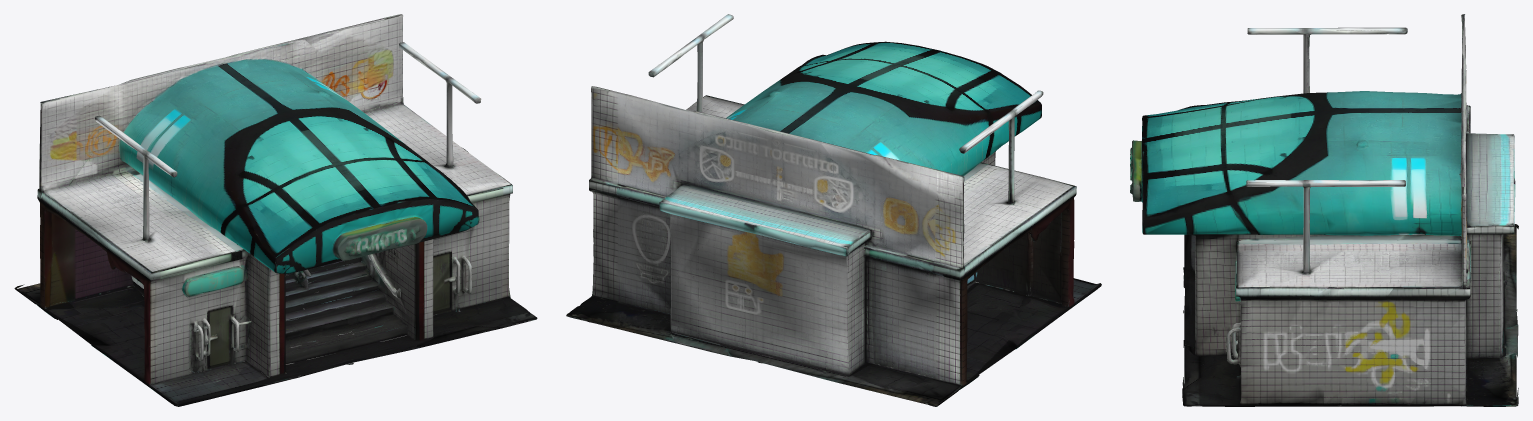
File: ximen_mrt_exit_01.glb
3 renders of one model, left to right at view 1: azimuth 30°, elevation 25°; view 2: azimuth 150°, elevation 25°; view 3: azimuth 270°, elevation 25°, orthographic. The views are drawn at different scales.
Size of the model in its own units: 2 by 1.09 by 1.8.
Materials: 1 (1 with a texture image).
